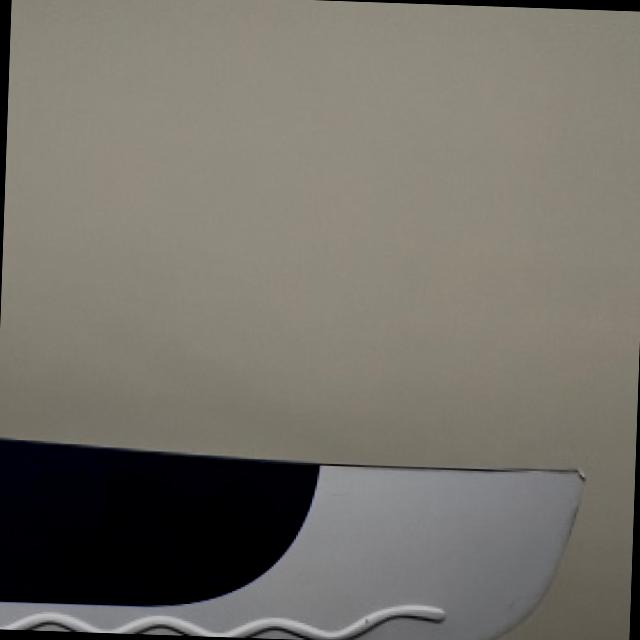healthy: (0, 437, 581, 640)
